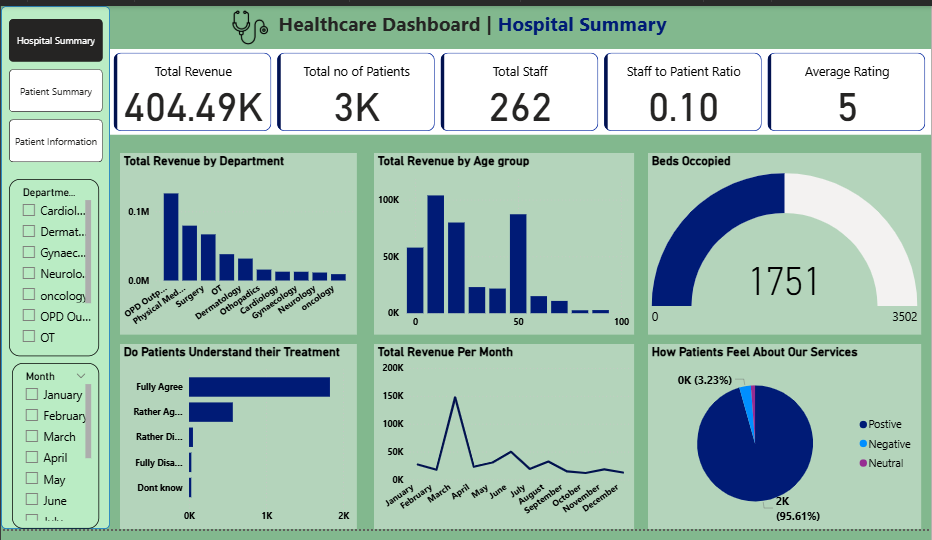

The page's visual inventory and layout, read from the dashboard file:
{"tool":"powerbi","page":{"name":"Hospital Summary","canvas":[1280,720],"ordinal":0},"visuals":[{"type":"clusteredColumnChart","title":"Total Revenue by Department","fields":{"Category":["Department.Department_Name"],"Y":["Measure Total.Total Revenue"]},"box":[163.8,202.3,326.2,250.5],"z":0},{"type":"clusteredColumnChart","fields":{"Category":["Detail data dataset.Age group"],"Y":["Measure Total.Total Revenue"]},"box":[513.4,202.3,357.8,250.5],"z":1000},{"type":"gauge","fields":{"Y":["Measure Total.Beds Occopied"]},"box":[890.5,202.3,375.7,250.5],"z":2000},{"type":"clusteredBarChart","title":"Do Patients Understand their Treatment","fields":{"Category":["Detail data dataset.Feedback"],"Y":["Measure Total.Total no of Patients"]},"box":[163.8,465.2,326.2,254.6],"z":3000},{"type":"lineChart","title":"Total Revenue Per Month","fields":{"Category":["Detail data dataset.Date.Variation.Date Hierarchy.Month"],"Y":["Measure Total.Total Revenue"]},"box":[513.4,465.2,357.8,254.6],"z":4000},{"type":"pieChart","title":"How Patients Feel About Our Services","fields":{"Category":["Detail data dataset.FZ me"],"Y":["Detail data dataset.Total Patients"]},"box":[890.5,465.2,375.7,254.6],"z":5000},{"type":"shape","box":[0,0,150,719.8],"z":5500},{"type":"textbox","box":[312.4,0,673,59.2],"z":6000},{"type":"pageNavigator","box":[11,17.9,129.4,199.6],"z":8000},{"type":"slicer","fields":{"Values":["Detail data dataset.Date.Variation.Date Hierarchy.Month"]},"box":[15.1,491.4,119.7,228.5],"z":9000},{"type":"slicer","fields":{"Values":["Department.Department_Name"]},"box":[11,238.1,123.9,243.6],"z":9500},{"type":"cardVisual","fields":{"Data":["Measure Total.Total Revenue","Measure Total.Total no of Patients","Measure Total.Total Staff","Measure Total.Staff to Patient Ratio","Measure Total.Average Rating"]},"box":[150,59.2,1130,118.4],"z":10000},{"type":"image","box":[294.5,0,97.7,59.2],"z":10001}]}

Visuals, with their boxes in screenshot pixels (x1, y1, x2, y2), scaled from the page's 1280x720 canvas onto the 932x540 screenshot:
"Total Revenue by Department" clusteredColumnChart: bbox(119, 152, 357, 340)
clusteredColumnChart - Detail data dataset.Age group x Measure Total.Total Revenue: bbox(374, 152, 634, 340)
gauge - Measure Total.Beds Occopied: bbox(648, 152, 922, 340)
"Do Patients Understand their Treatment" clusteredBarChart: bbox(119, 349, 357, 539)
"Total Revenue Per Month" lineChart: bbox(374, 349, 634, 539)
"How Patients Feel About Our Services" pieChart: bbox(648, 349, 922, 539)
shape: bbox(0, 0, 109, 539)
textbox: bbox(227, 0, 717, 44)
pageNavigator: bbox(8, 13, 102, 163)
slicer - Detail data dataset.Date.Variation.Date Hierarchy.Month: bbox(11, 369, 98, 539)
slicer - Department.Department_Name: bbox(8, 179, 98, 361)
cardVisual - Measure Total.Total Revenue x Measure Total.Total no of Patients: bbox(109, 44, 931, 133)
image: bbox(214, 0, 286, 44)
